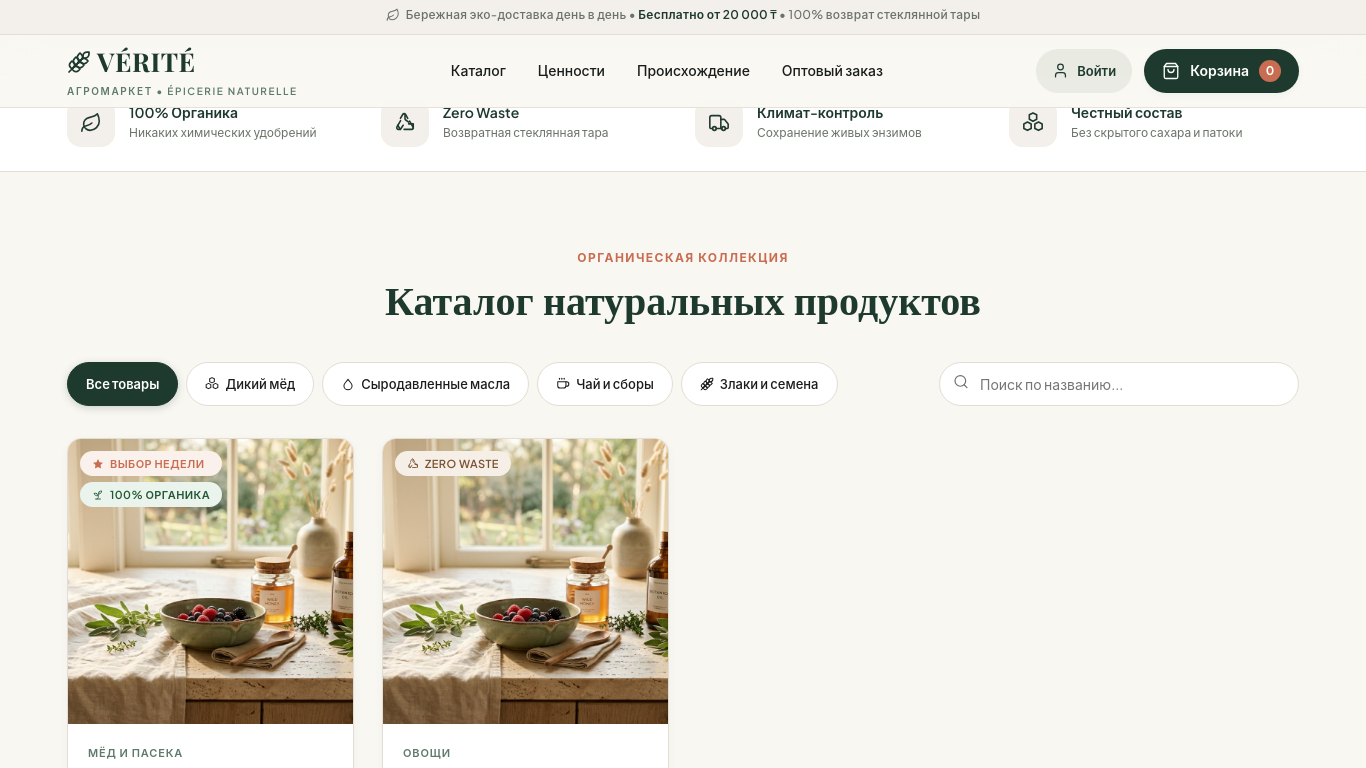
Test case: Каталог и сессия › поиск без совпадений показывает пустое состояние
The width and height of the screenshot is (1366, 768).
(page scrolled)
Type "несуществующий товар" into the search field at (1119, 384), box [939,362,1299,406]
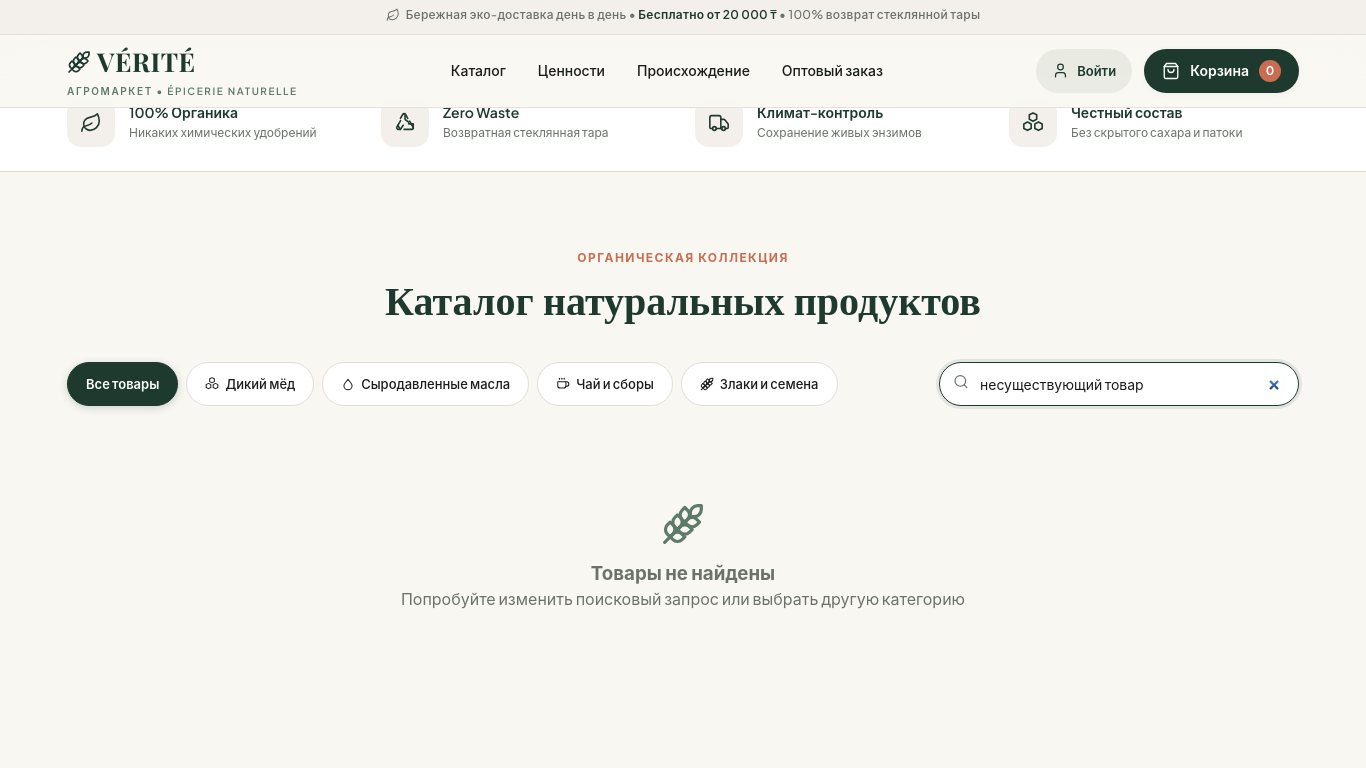
Result: the heading "Товары не найдены" is shown at [591,561,775,584]
